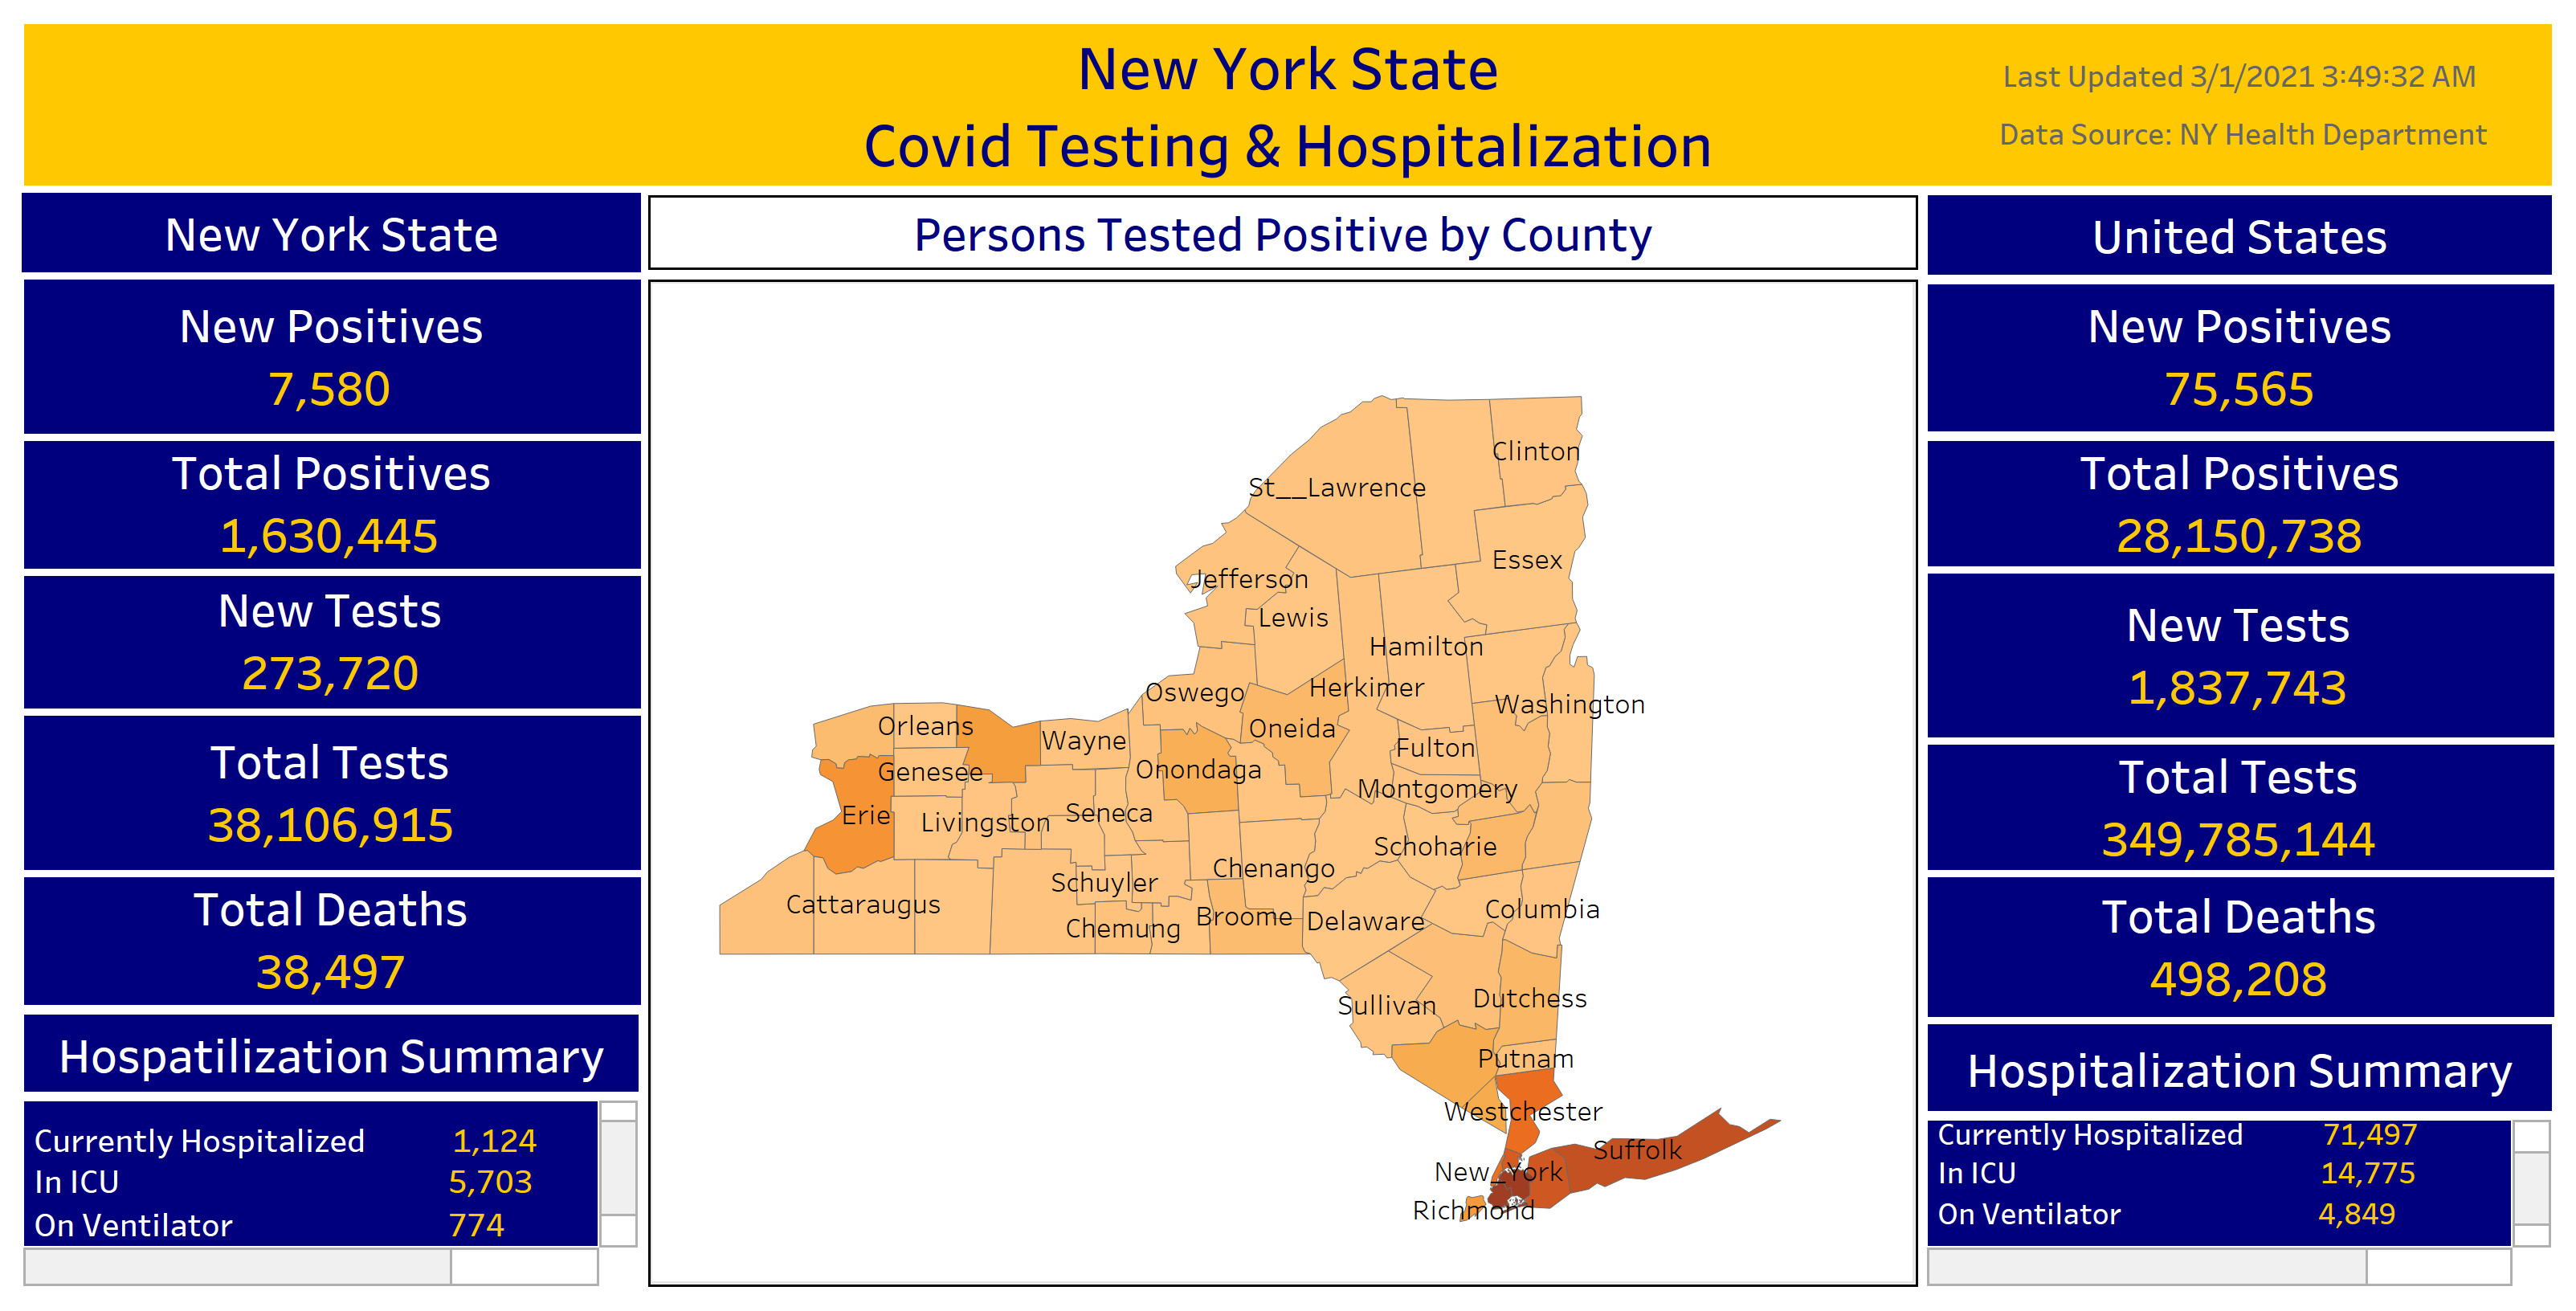

The dashboard page shown, as its layout file describes it:
{"tool":"tableau","page":{"name":"Dashboard 1","canvas":[1000,1000],"units":"permille","ordinal":0},"visuals":[{"type":"worksheet","box":[0,0,1000,1000]},{"type":"worksheet","param":"horz","box":[7.5,14.7,985,970.6]},{"type":"worksheet","param":"vert","box":[7.5,14.7,985,970.6]},{"type":"worksheet","box":[7.5,14.7,985,130.5]},{"type":"worksheet","title":"Update_Time","mark":"Automatic","box":[747.4,42.3,245.1,47.8]},{"type":"worksheet","box":[755.9,62.5,230.1,77.2]},{"type":"worksheet","box":[7.5,145.2,985,840.1]},{"type":"worksheet","box":[7.5,145.2,242.2,64.1]},{"type":"worksheet","box":[249.7,145.2,496.4,64.3]},{"type":"worksheet","box":[746.1,145.2,246.5,67.6]},{"type":"worksheet","title":"Ny_New_Positive","mark":"Automatic","box":[7.5,209.3,242.2,123.4]},{"type":"worksheet","title":"Ny_County_Map","mark":"Automatic","box":[249.7,209.5,496.4,775.8]},{"type":"worksheet","title":"Us_New_Positives","mark":"Automatic","box":[746.1,212.8,246.5,119.7]},{"type":"worksheet","title":"Us_Total_Positives","mark":"Automatic","box":[746.1,332.6,246.5,101.1]},{"type":"worksheet","title":"Ny_Total_Positive","mark":"Automatic","box":[7.5,332.7,242.2,102.9]},{"type":"worksheet","title":"Us_New_Tests","mark":"Automatic","box":[746.1,433.7,246.5,130.5]},{"type":"worksheet","title":"Ny_New_Tests","mark":"Automatic","box":[7.5,435.5,242.2,106.5]},{"type":"worksheet","title":"Ny_Total_Tests","mark":"Automatic","box":[7.5,542.1,242.2,123.3]},{"type":"worksheet","title":"Us_Total_Tests","mark":"Automatic","box":[746.1,564.2,246.5,101.1]},{"type":"worksheet","title":"Us_Total_Death","mark":"Automatic","box":[746.1,665.3,246.5,112.1]},{"type":"worksheet","title":"Ny_Total_Death","mark":"Automatic","box":[7.5,665.4,242.2,104.7]},{"type":"worksheet","box":[7.5,770.1,242.2,66.3]},{"type":"worksheet","box":[746.1,777.4,246.5,74.6]},{"type":"worksheet","title":"Ny_Hospital","mark":"Automatic","box":[7.5,836.3,242.2,149]},{"type":"worksheet","title":"Us_Hospital","mark":"Automatic","box":[746.1,852,246.5,133.3]}]}

Visuals, with their boxes on the dashboard's canvas, which has no fixed pixel size, in thousandths of its width and height (x1, y1, x2, y2). These are canvas units, not pixel positions in the 2576x1311 screenshot, which may show the page scaled, cropped or inside an application window:
worksheet: (x1=0, y1=0, x2=1000, y2=1000)
worksheet: (x1=8, y1=15, x2=992, y2=985)
worksheet: (x1=8, y1=15, x2=992, y2=985)
worksheet: (x1=8, y1=15, x2=992, y2=145)
"Update_Time" worksheet: (x1=747, y1=42, x2=992, y2=90)
worksheet: (x1=756, y1=62, x2=986, y2=140)
worksheet: (x1=8, y1=145, x2=992, y2=985)
worksheet: (x1=8, y1=145, x2=250, y2=209)
worksheet: (x1=250, y1=145, x2=746, y2=210)
worksheet: (x1=746, y1=145, x2=993, y2=213)
"Ny_New_Positive" worksheet: (x1=8, y1=209, x2=250, y2=333)
"Ny_County_Map" worksheet: (x1=250, y1=210, x2=746, y2=985)
"Us_New_Positives" worksheet: (x1=746, y1=213, x2=993, y2=332)
"Us_Total_Positives" worksheet: (x1=746, y1=333, x2=993, y2=434)
"Ny_Total_Positive" worksheet: (x1=8, y1=333, x2=250, y2=436)
"Us_New_Tests" worksheet: (x1=746, y1=434, x2=993, y2=564)
"Ny_New_Tests" worksheet: (x1=8, y1=436, x2=250, y2=542)
"Ny_Total_Tests" worksheet: (x1=8, y1=542, x2=250, y2=665)
"Us_Total_Tests" worksheet: (x1=746, y1=564, x2=993, y2=665)
"Us_Total_Death" worksheet: (x1=746, y1=665, x2=993, y2=777)
"Ny_Total_Death" worksheet: (x1=8, y1=665, x2=250, y2=770)
worksheet: (x1=8, y1=770, x2=250, y2=836)
worksheet: (x1=746, y1=777, x2=993, y2=852)
"Ny_Hospital" worksheet: (x1=8, y1=836, x2=250, y2=985)
"Us_Hospital" worksheet: (x1=746, y1=852, x2=993, y2=985)
